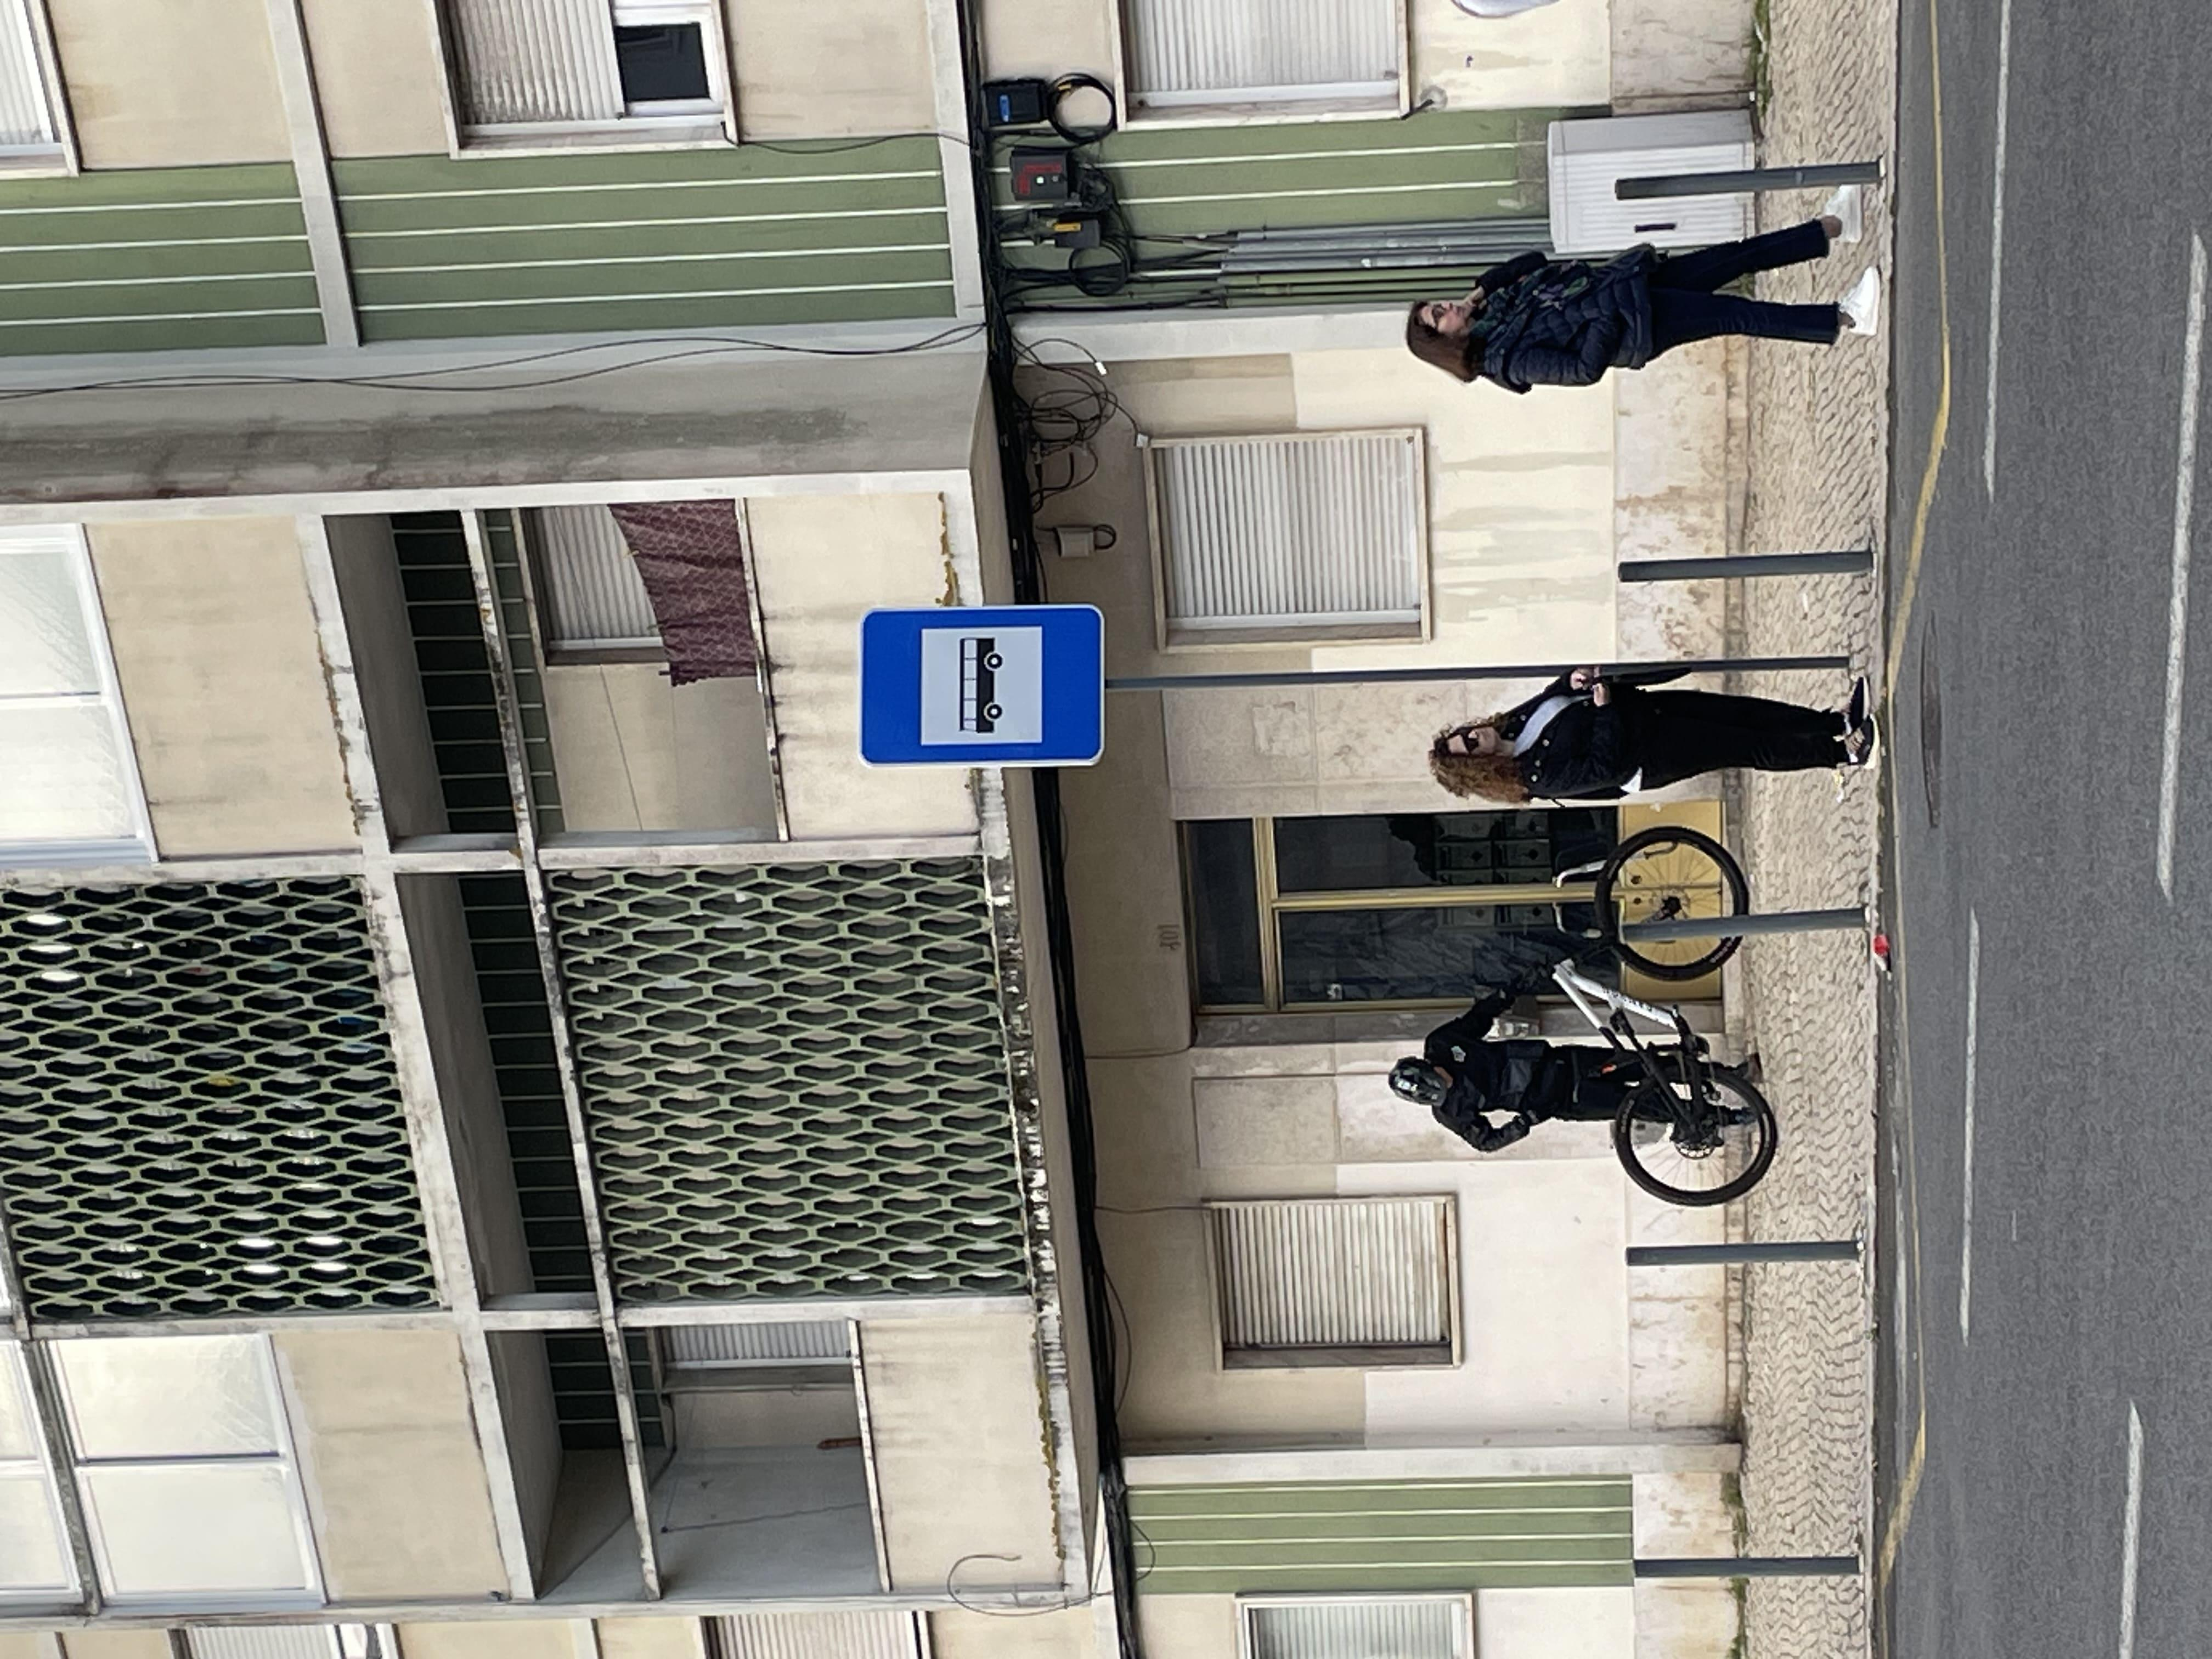Paragem de veiculos de transporte colectivo de passageiros: (857, 605, 1104, 769)
